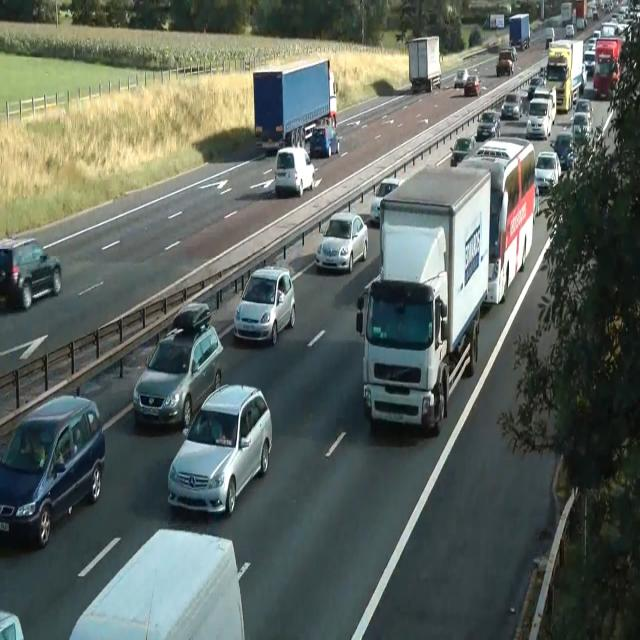bus: (232, 265, 296, 346), (315, 210, 368, 274), (274, 146, 314, 197), (370, 177, 400, 225), (172, 302, 211, 332), (531, 86, 557, 124), (310, 126, 340, 158), (550, 132, 574, 170), (570, 111, 592, 146), (449, 136, 473, 167), (476, 110, 501, 139), (0, 610, 24, 639), (469, 125, 493, 152), (501, 92, 523, 119), (574, 98, 594, 125), (527, 75, 545, 98), (464, 74, 481, 96), (496, 58, 514, 76), (453, 68, 469, 88), (583, 50, 595, 76), (533, 180, 539, 222), (304, 122, 316, 140), (546, 27, 554, 48), (565, 24, 574, 38), (510, 46, 518, 61)
car: (68, 526, 245, 638)
jeep: (0, 391, 106, 549), (167, 382, 273, 516), (132, 308, 224, 429), (0, 235, 62, 309), (534, 149, 561, 194), (526, 96, 552, 140)
minibus: (356, 163, 492, 433), (456, 135, 536, 305), (252, 58, 338, 156), (546, 38, 586, 112), (406, 34, 442, 92), (593, 37, 623, 99), (508, 12, 530, 50), (482, 12, 504, 30), (560, 1, 572, 28)
